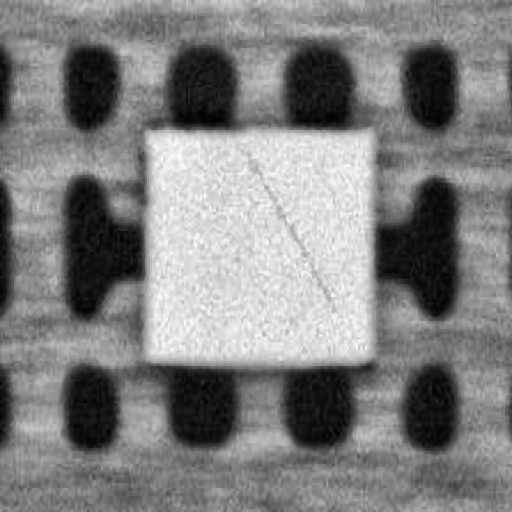DIE_CRACK: (364, 98, 502, 206)
